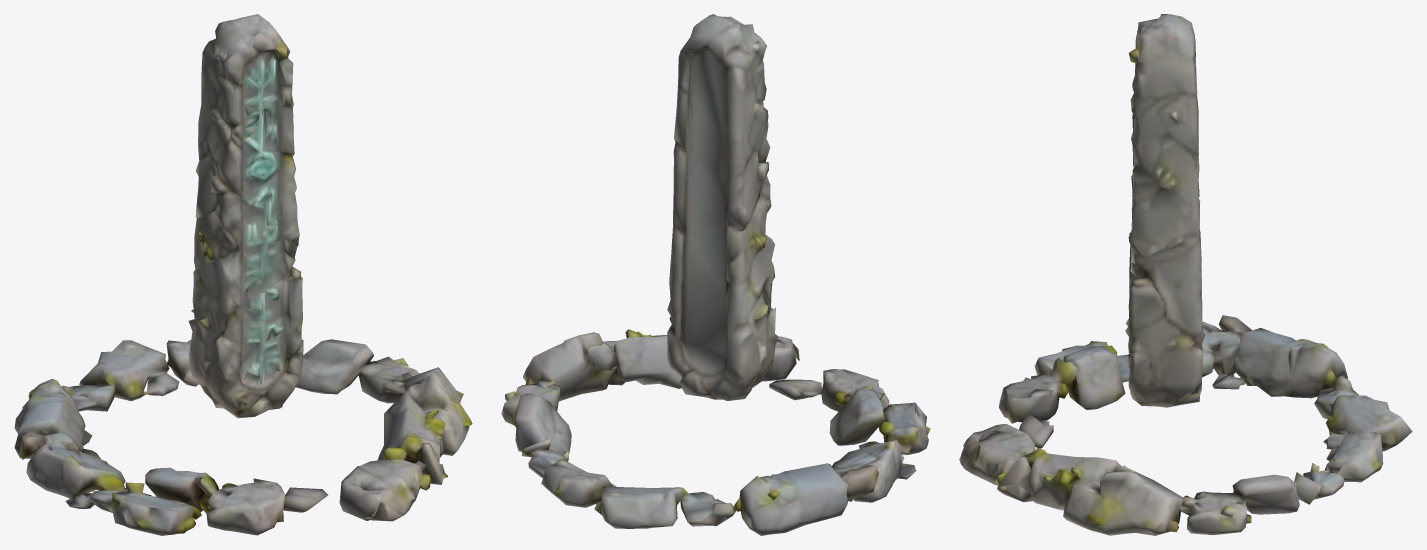
File: rune-monolith.glb
3 renders of one model, left to right at view 1: azimuth 30°, elevation 25°; view 2: azimuth 150°, elevation 25°; view 3: azimuth 270°, elevation 25°, orthographic. The views are drawn at different scales.
Parts seen in each view (by area): view 1: low; view 2: low; view 3: low.
Boxes of the visible parts, <box> form: low: <box>14,14,472,535</box>; low: <box>501,14,930,535</box>; low: <box>959,14,1412,535</box>.
Size of the model in its own units: 2.3 by 2.4 by 2.3.
1 material, 1 textured.
